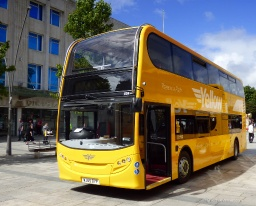bus: (57, 28, 249, 195)
